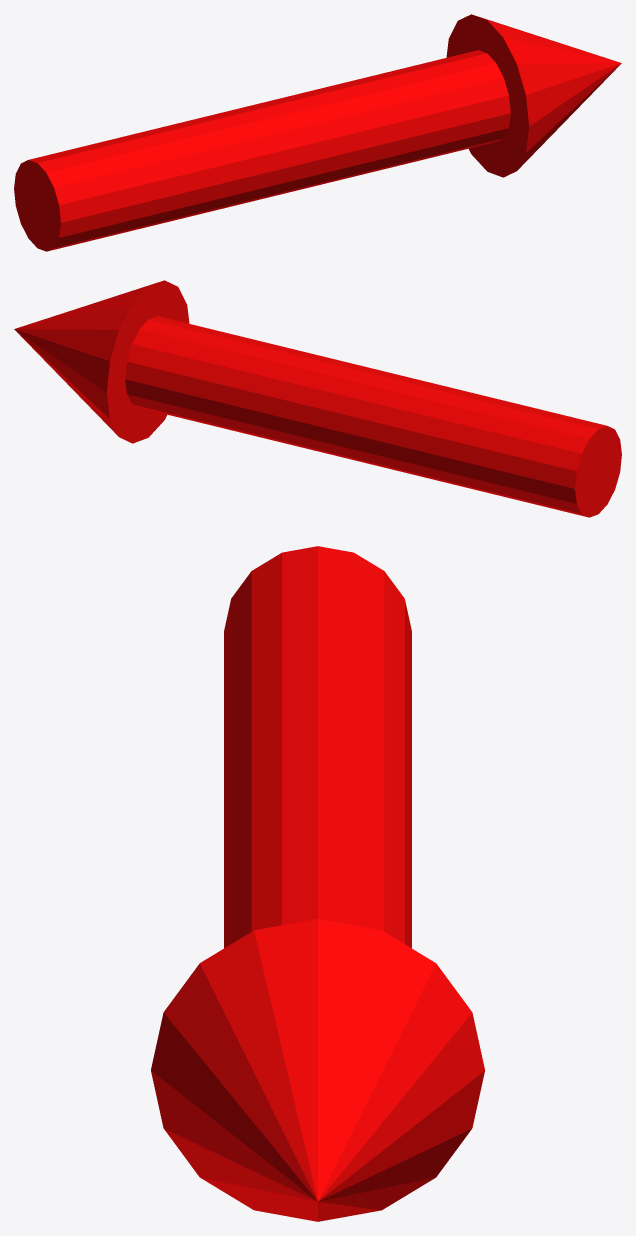
Rendered from gizmo_loc_x.obj.
3 views of the same model, one above another, from view 1: azimuth 30°, elevation 25°; view 2: azimuth 150°, elevation 25°; view 3: azimuth 270°, elevation 25° (orthographic). The views are drawn at different scales.
Parts seen in each view (by area): view 1: Gizmo_Location.002; view 2: Gizmo_Location.002; view 3: Gizmo_Location.002.
Part boxes in pixels (x1,y1,x2,y2): Gizmo_Location.002: (14, 14, 621, 251); Gizmo_Location.002: (14, 280, 621, 517); Gizmo_Location.002: (151, 546, 484, 1221).
Size of the model in its own units: 1.3 by 0.3227 by 0.3227.
